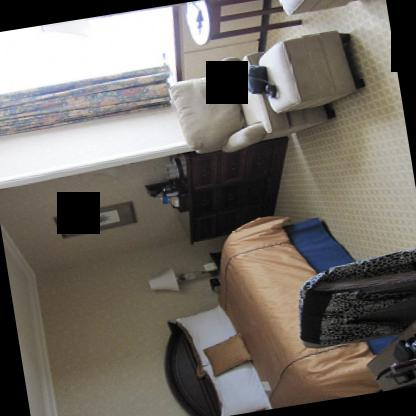handbag: (246, 64, 276, 97)
